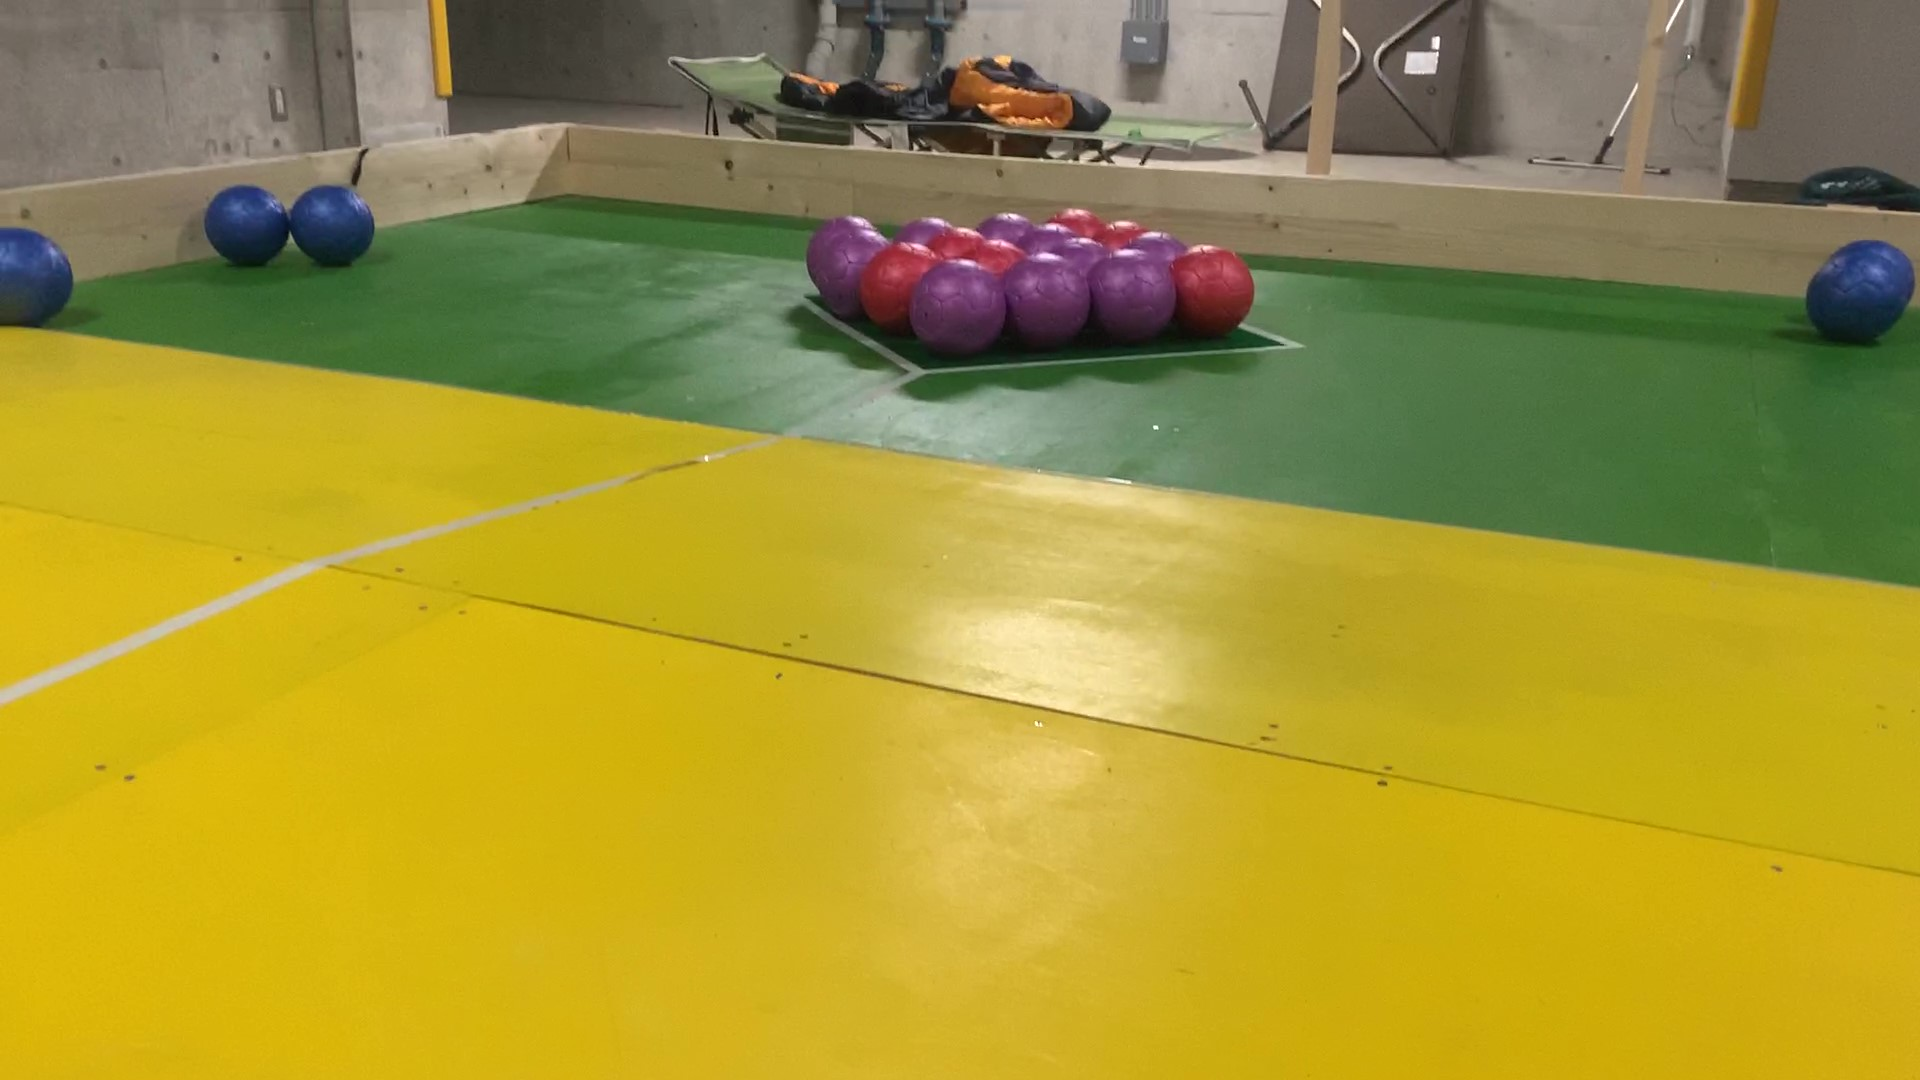blue: (1816, 264, 1886, 338), (4, 237, 62, 320), (210, 193, 277, 260), (298, 194, 364, 262), (1845, 237, 1903, 262)
purple: (1102, 258, 1174, 334), (931, 266, 994, 345), (1014, 268, 1080, 332), (827, 245, 864, 316), (812, 219, 878, 236), (975, 216, 1025, 236), (897, 219, 949, 237), (1138, 232, 1183, 253), (1031, 225, 1073, 245), (1062, 240, 1106, 257)
red: (1183, 256, 1242, 328), (870, 257, 909, 324), (1056, 208, 1102, 232), (932, 232, 977, 256), (1105, 222, 1145, 243), (980, 245, 1014, 266)
